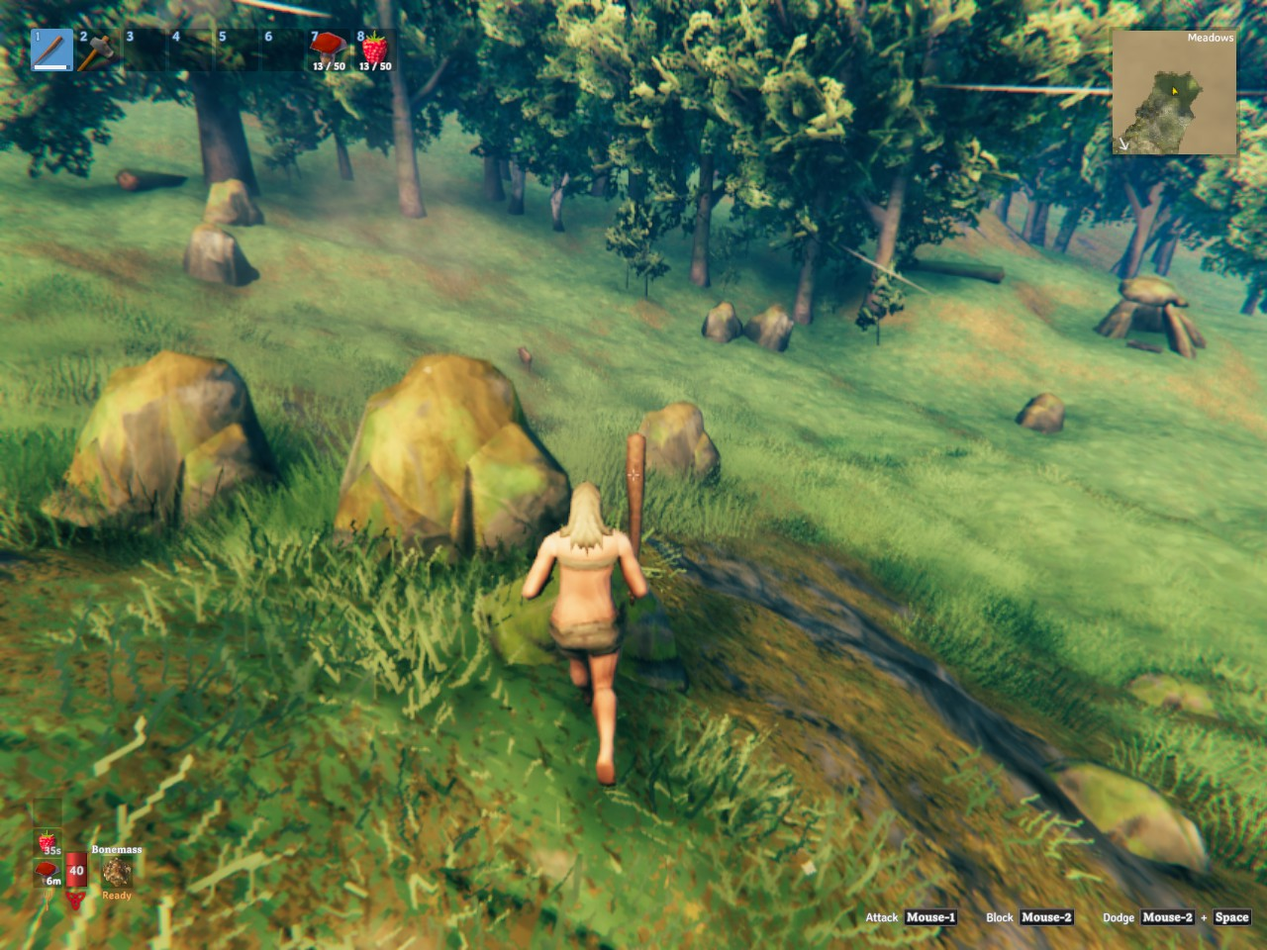Boar: (518, 346, 531, 372)
